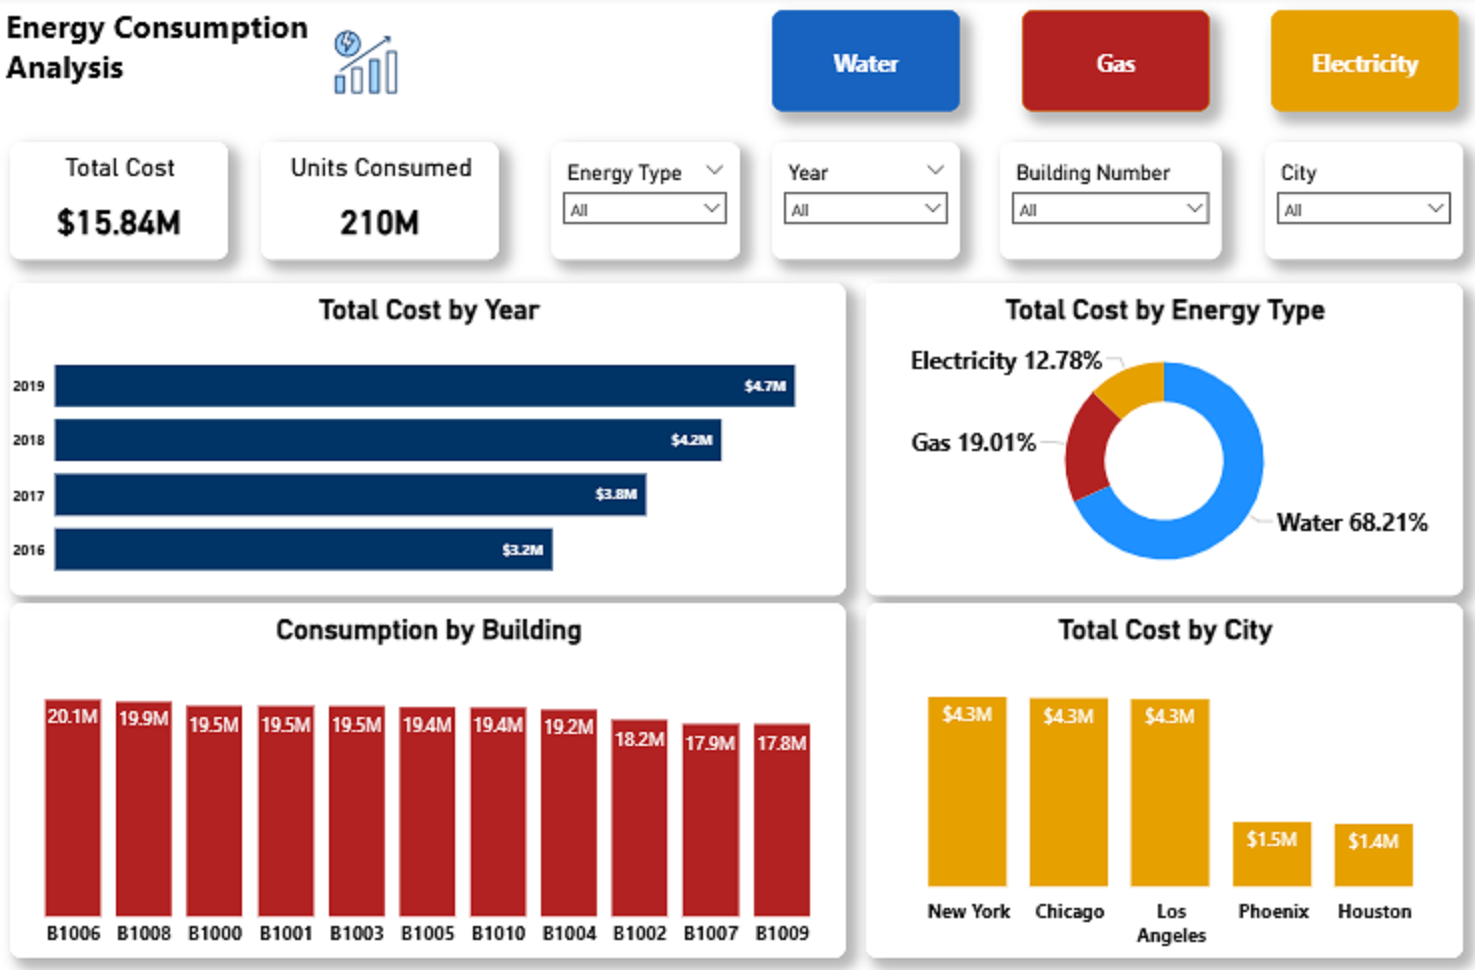

The dashboard page shown, as its layout file describes it:
{"tool":"powerbi","page":{"name":"Overview","canvas":[1280,850],"ordinal":0},"visuals":[{"type":"card","title":"Total Cost","fields":{"Values":["Sum(Energy Consumptions.Price)"]},"box":[8.7,128.4,189.1,100.6],"z":0},{"type":"card","title":"Units Consumed","fields":{"Values":["Sum(Energy Consumptions.Consumption)"]},"box":[225.5,128.4,206.4,100.6],"z":1000},{"type":"barChart","title":"Total Cost by Year","fields":{"Category":["Rates.Year"],"Y":["Sum(Energy Consumptions.Price)"]},"box":[8.7,249.8,723.4,270.6],"z":2000},{"type":"donutChart","title":"Total Cost by Energy Type","fields":{"Category":["Rates.Energy Type"],"Y":["Sum(Energy Consumptions.Price)"]},"box":[749.4,249.8,516.9,270.6],"z":3000},{"type":"clusteredColumnChart","title":"Consumption by Building","fields":{"Y":["Sum(Energy Consumptions.Consumption)"],"Category":["Energy Consumptions.Building"]},"box":[8.7,527.3,723.4,307],"z":4000},{"type":"clusteredColumnChart","title":"Total Cost by City","fields":{"Y":["Sum(Energy Consumptions.Price)"],"Category":["Building Master.City"]},"box":[749.4,527.3,516.9,307],"z":5000},{"type":"slicer","fields":{"Values":["Rates.Year"]},"box":[667.1,127.8,163.1,101.4],"z":6000},{"type":"slicer","fields":{"Values":["Rates.Energy Type"]},"box":[477,128.4,163.1,100.6],"z":7000},{"type":"textbox","box":[0,4.3,335.5,87.8],"z":8000},{"type":"image","box":[265.4,26,102.3,65.9],"z":9000},{"type":"slicer","fields":{"Values":["Building Master.City"]},"box":[1094.7,127.8,171.9,101.4],"z":10000},{"type":"slicer","fields":{"Values":["Building Master.Building"]},"box":[865.5,127.8,192.5,101.4],"z":11000},{"type":"actionButton","title":"Water","box":[667.9,13.9,163.1,88.5],"z":12000},{"type":"actionButton","title":"Water","box":[1099.8,13.9,163.1,88.5],"z":13000},{"type":"actionButton","title":"Water","box":[884.7,13.9,163.1,88.5],"z":14000}]}

Visuals, with their boxes in screenshot pixels (x1, y1, x2, y2), scaled from the page's 1280x850 canvas onto the 1475x970 screenshot:
"Total Cost" card: region(10, 147, 228, 261)
"Units Consumed" card: region(260, 147, 498, 261)
"Total Cost by Year" barChart: region(10, 285, 844, 594)
"Total Cost by Energy Type" donutChart: region(864, 285, 1459, 594)
"Consumption by Building" clusteredColumnChart: region(10, 602, 844, 952)
"Total Cost by City" clusteredColumnChart: region(864, 602, 1459, 952)
slicer - Rates.Year: region(769, 146, 957, 262)
slicer - Rates.Energy Type: region(550, 147, 738, 261)
textbox: region(0, 5, 387, 105)
image: region(306, 30, 424, 105)
slicer - Building Master.City: region(1261, 146, 1460, 262)
slicer - Building Master.Building: region(997, 146, 1219, 262)
"Water" actionButton: region(770, 16, 958, 117)
"Water" actionButton: region(1267, 16, 1455, 117)
"Water" actionButton: region(1019, 16, 1207, 117)
